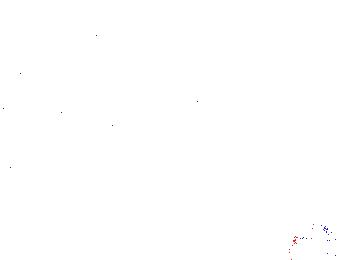flame jellyfish: (288, 192, 346, 254), (267, 166, 317, 228), (32, 73, 76, 140)
